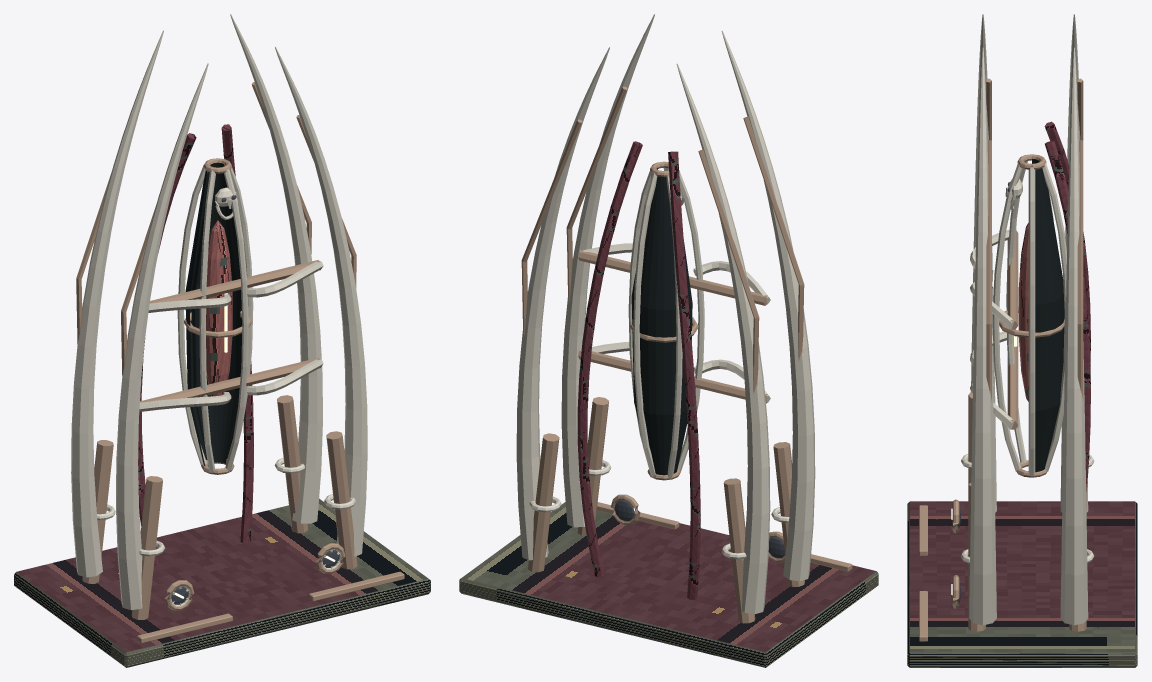
File: inversion_surgical_cradle.glb
3 renders of one model, left to right at view 1: azimuth 30°, elevation 25°; view 2: azimuth 150°, elevation 25°; view 3: azimuth 270°, elevation 25°, orthographic. The views are drawn at different scales.
Visible parts, largest first — view 1: inversion_surgical_cradle_warm, inversion_surgical_cradle_petrol, inversion_surgical_cradle_worn, inversion_surgical_cradle_bruised, inversion_surgical_cradle_suture; view 2: inversion_surgical_cradle_petrol, inversion_surgical_cradle_warm, inversion_surgical_cradle_worn, inversion_surgical_cradle_bruised, inversion_surgical_cradle_deep; view 3: inversion_surgical_cradle_petrol, inversion_surgical_cradle_warm, inversion_surgical_cradle_worn, inversion_surgical_cradle_bruised, inversion_surgical_cradle_suture.
Part boxes in pixels (x1=…): inversion_surgical_cradle_warm: x1=71, y1=14, x2=367, y2=610; inversion_surgical_cradle_petrol: x1=14, y1=162, x2=430, y2=667; inversion_surgical_cradle_worn: x1=76, y1=82, x2=404, y2=643; inversion_surgical_cradle_bruised: x1=138, y1=124, x2=253, y2=565; inversion_surgical_cradle_suture: x1=206, y1=220, x2=232, y2=405; inversion_surgical_cradle_petrol: x1=459, y1=168, x2=878, y2=667; inversion_surgical_cradle_warm: x1=516, y1=14, x2=815, y2=614; inversion_surgical_cradle_worn: x1=521, y1=86, x2=852, y2=623; inversion_surgical_cradle_bruised: x1=577, y1=141, x2=700, y2=599; inversion_surgical_cradle_deep: x1=614, y1=500, x2=784, y2=558; inversion_surgical_cradle_petrol: x1=907, y1=158, x2=1137, y2=667; inversion_surgical_cradle_warm: x1=953, y1=14, x2=1094, y2=625; inversion_surgical_cradle_worn: x1=919, y1=78, x2=1086, y2=641; inversion_surgical_cradle_bruised: x1=1044, y1=121, x2=1090, y2=491; inversion_surgical_cradle_suture: x1=1018, y1=223, x2=1028, y2=401.
Size of the model in its own units: 4.95 by 8.48 by 3.15.
7 materials, 3 textured.
